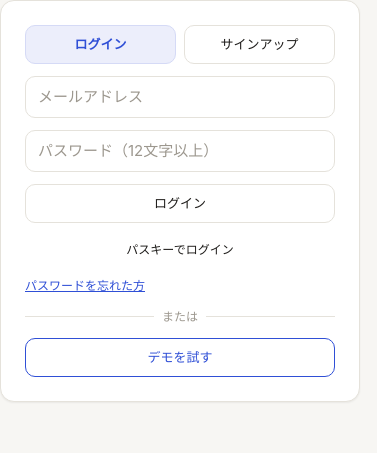
it: 403 以外のログイン失敗は従来どおり汎用エラーを表示する
Type "user@example.com" into the field with placeholder "メールアドレス" at (180, 97), box [25,76,335,118]
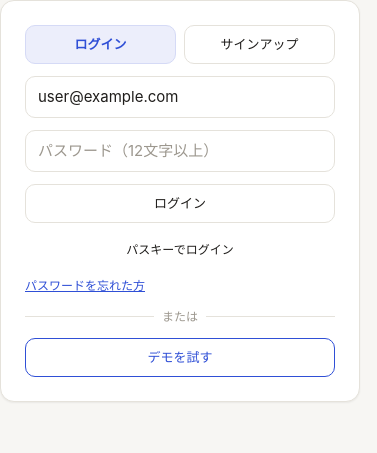
Type "password1234" into the password field with placeholder "パスワード（12文字以上）" at (180, 151), box [25,130,335,172]
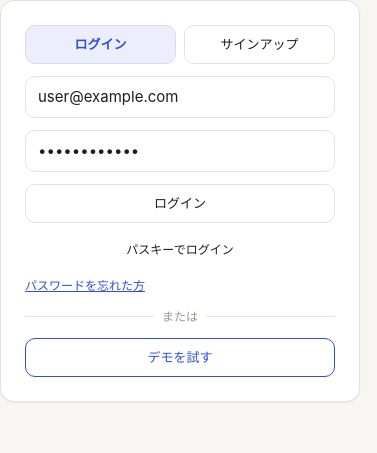
Click the 2nd button "ログイン" at (180, 203), box [25,184,335,223]
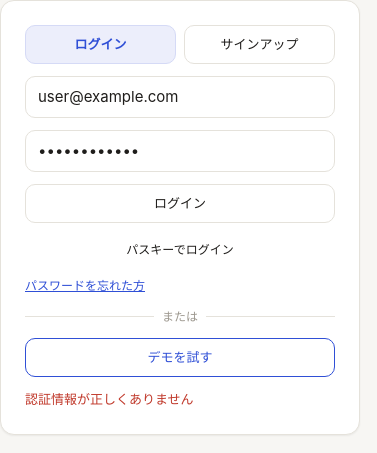
Now the text "認証情報が正しくありません" is shown, box [25,391,194,407]
